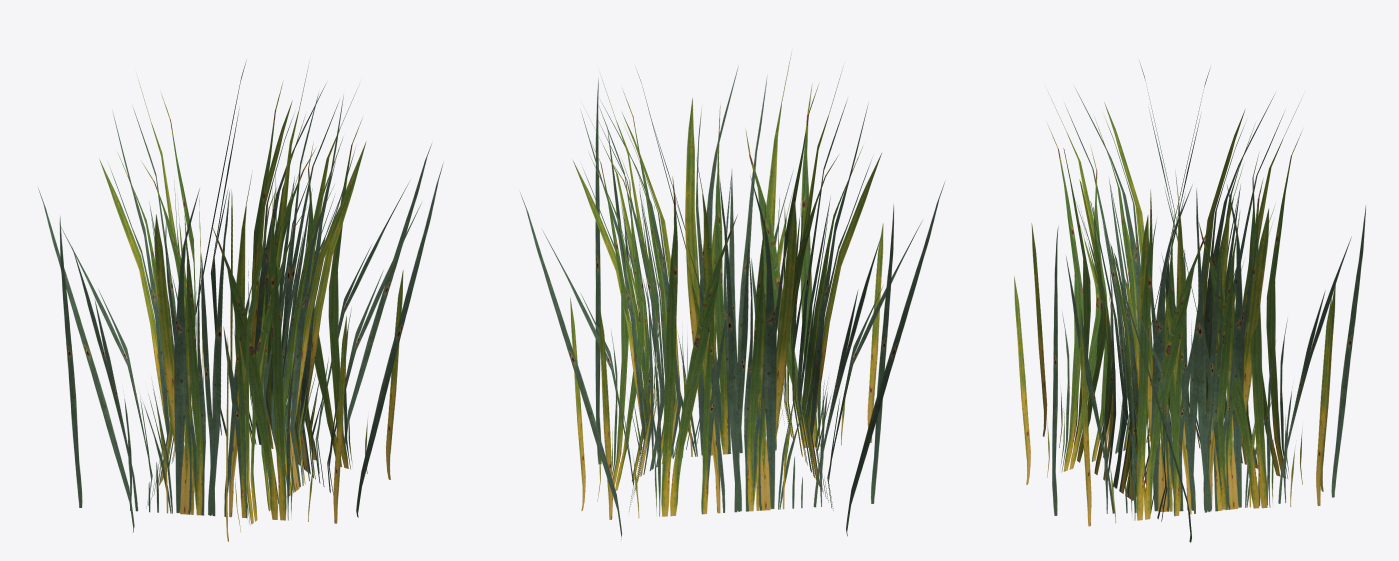
Rendered from grass.glb.
3 renders of one model, left to right at view 1: azimuth 30°, elevation 25°; view 2: azimuth 150°, elevation 25°; view 3: azimuth 270°, elevation 25°, orthographic. The views are drawn at different scales.
Parts seen in each view (by area): view 1: org_grass; view 2: org_grass; view 3: org_grass.
Part boxes in pixels (bbox=[...]): org_grass: bbox=[38, 61, 443, 541]; org_grass: bbox=[520, 54, 944, 539]; org_grass: bbox=[1014, 61, 1365, 542].
Size of the model in its own units: 0.4455 by 0.42 by 0.38.
1 material, 1 textured.
